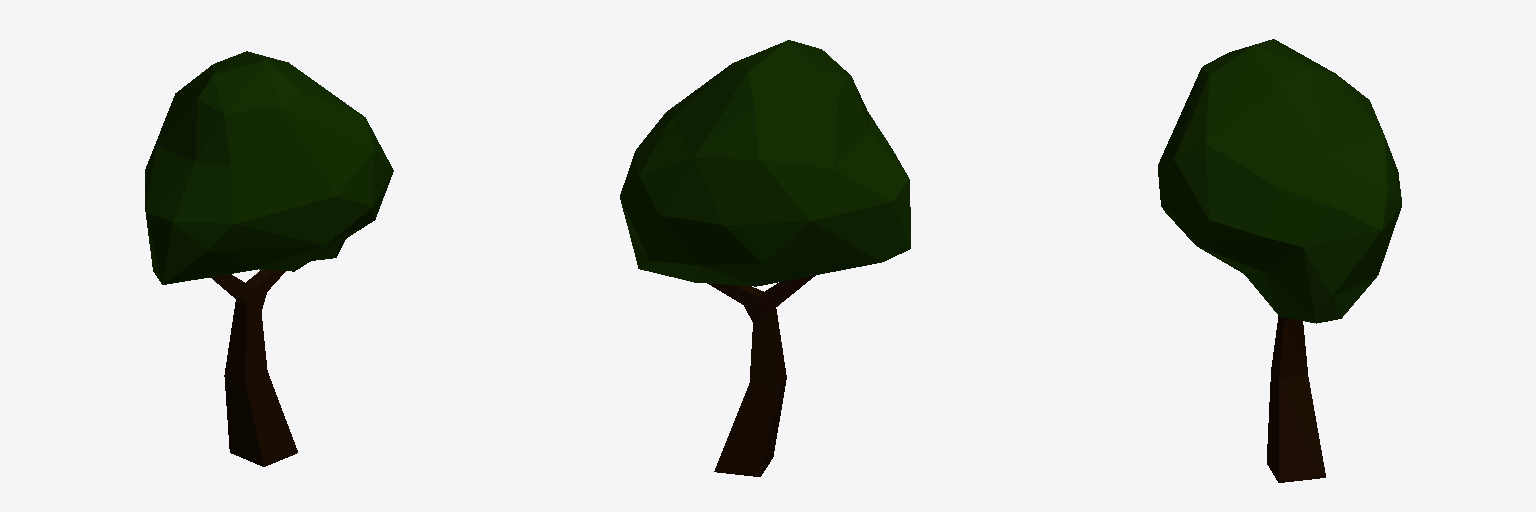
File: tree_lvl_12.obj
3 views of the same model, side by side, from view 1: azimuth 30°, elevation 25°; view 2: azimuth 150°, elevation 25°; view 3: azimuth 270°, elevation 25° (orthographic).
Bounding box in the file's own units: 2.67 × 4.45 × 2.39.